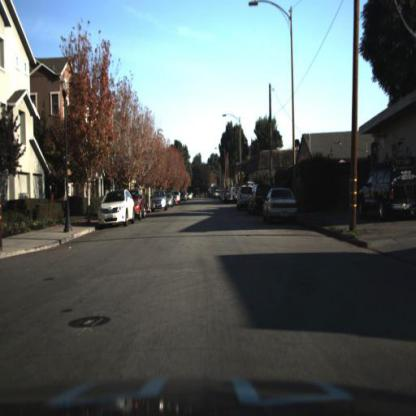car: (358, 160, 416, 226), (95, 187, 134, 229), (98, 190, 136, 229), (262, 188, 298, 228), (127, 185, 149, 225), (248, 182, 270, 218), (236, 180, 254, 211), (148, 189, 168, 214)
